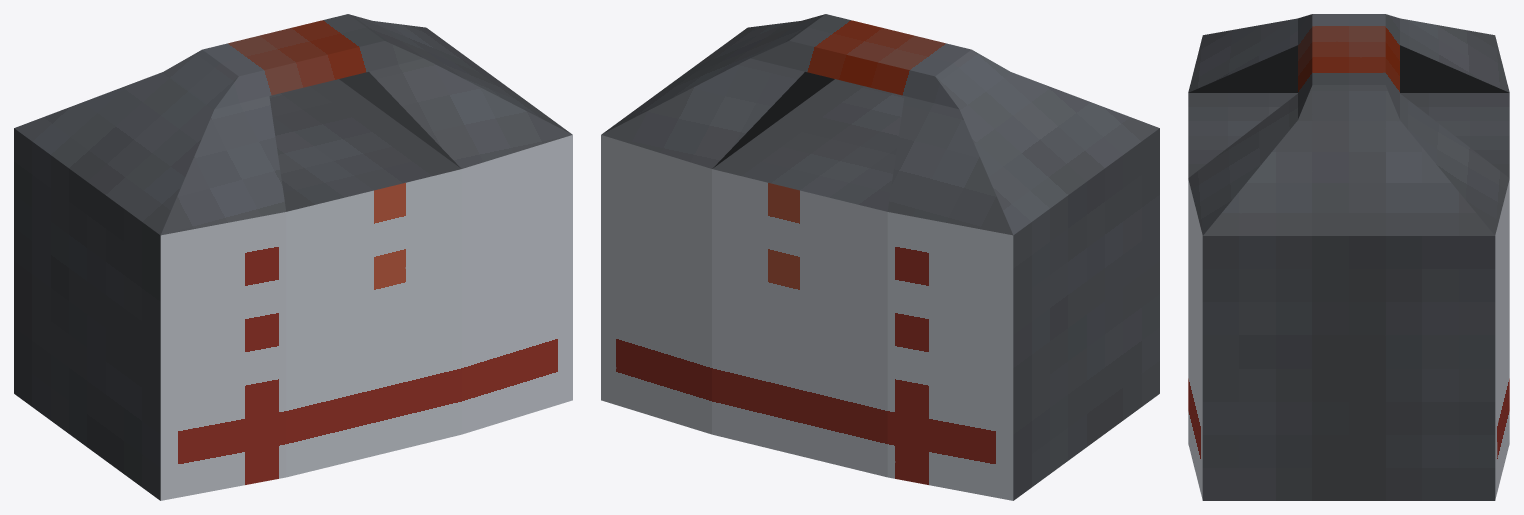
File: bio_gel_cooler.gltf
3 views of the same model, side by side, from view 1: azimuth 30°, elevation 25°; view 2: azimuth 150°, elevation 25°; view 3: azimuth 270°, elevation 25° (orthographic).
Parts seen in each view (by area): view 1: bio_gel_cooler; view 2: bio_gel_cooler; view 3: bio_gel_cooler.
Part boxes in pixels (left/top/right/bottom): bio_gel_cooler: left=14, top=14, right=572, bottom=500; bio_gel_cooler: left=601, top=14, right=1159, bottom=500; bio_gel_cooler: left=1188, top=14, right=1509, bottom=500.
Size of the model in its own units: 0.4062 by 0.3313 by 0.275.
1 material, 1 textured.
